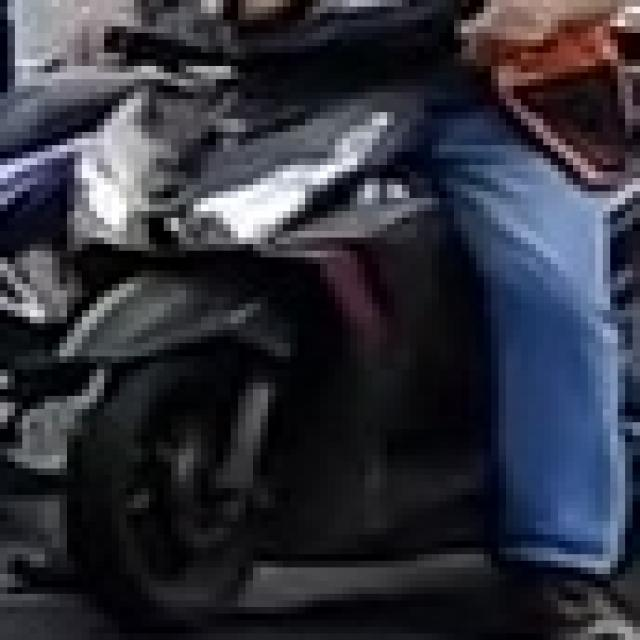helmet: (208, 0, 469, 66)
tyre: (59, 349, 268, 626)
